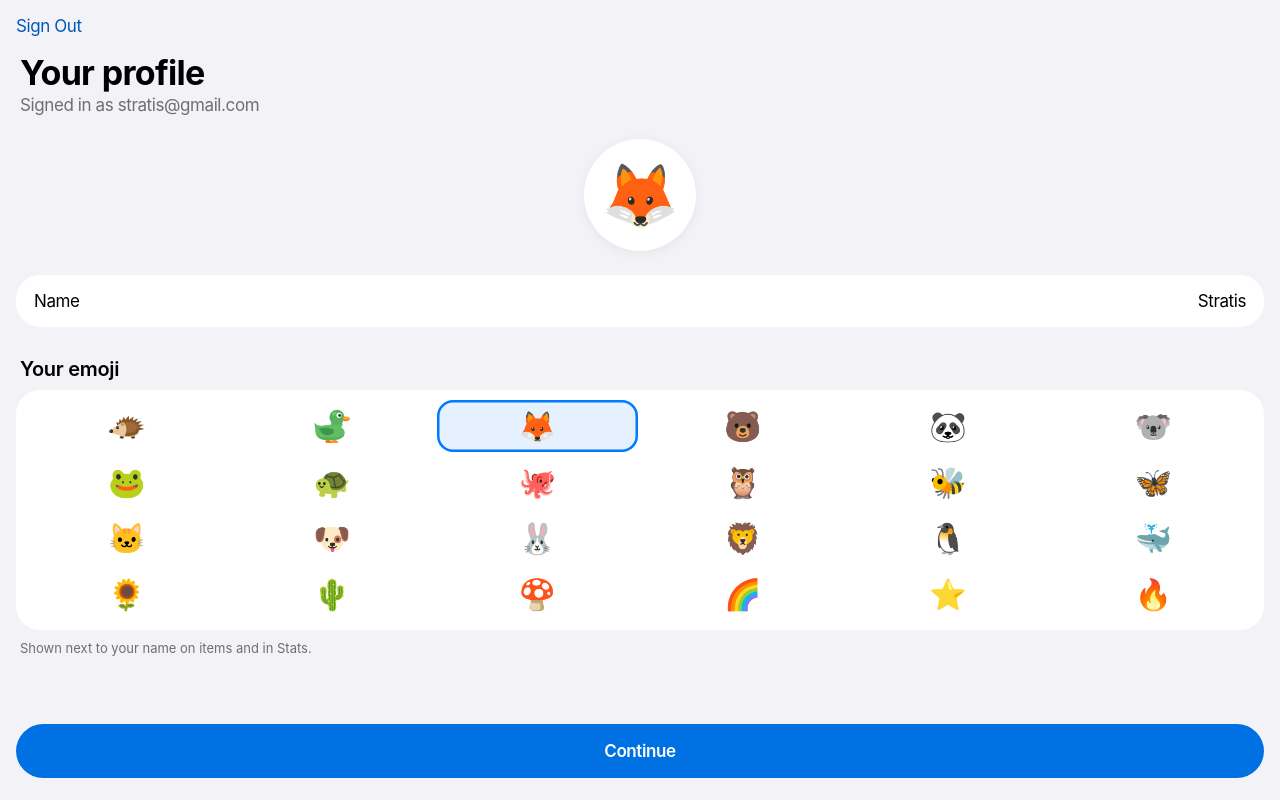
Test: This home is private › with an invite link goes Profile then Join, without "Set up a new home instead"
The width and height of the screenshot is (1280, 800).
Later steps or results of the test are not shown.
Expected: the heading "Your profile" is shown, x1=20 y1=52 x2=205 y2=93
# Starts on the first emoji nobody in that home has (the duck and hedgehog are taken).
Click the radio button labelled "🐻" at (743, 426), box x1=642 y1=400 x2=843 y2=452
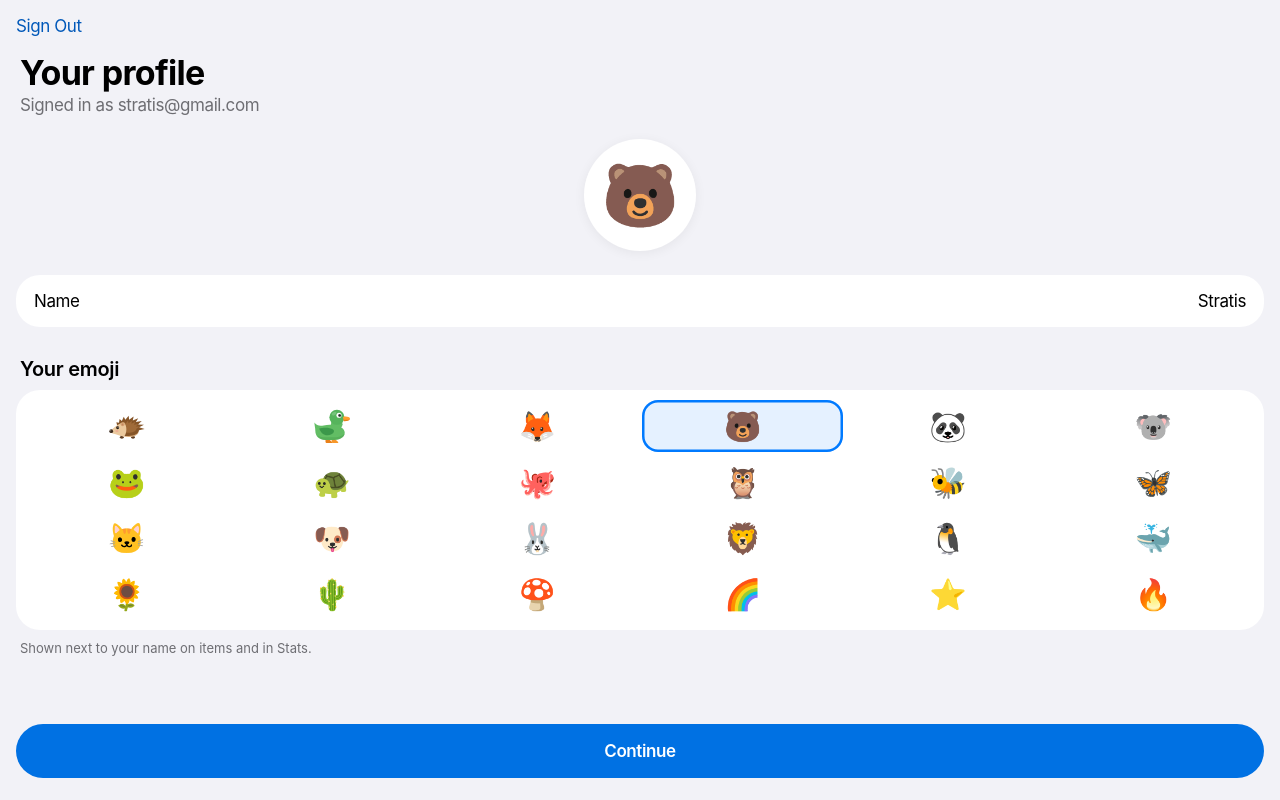
Click the button "Continue" at (640, 751), box x1=16 y1=724 x2=1264 y2=778
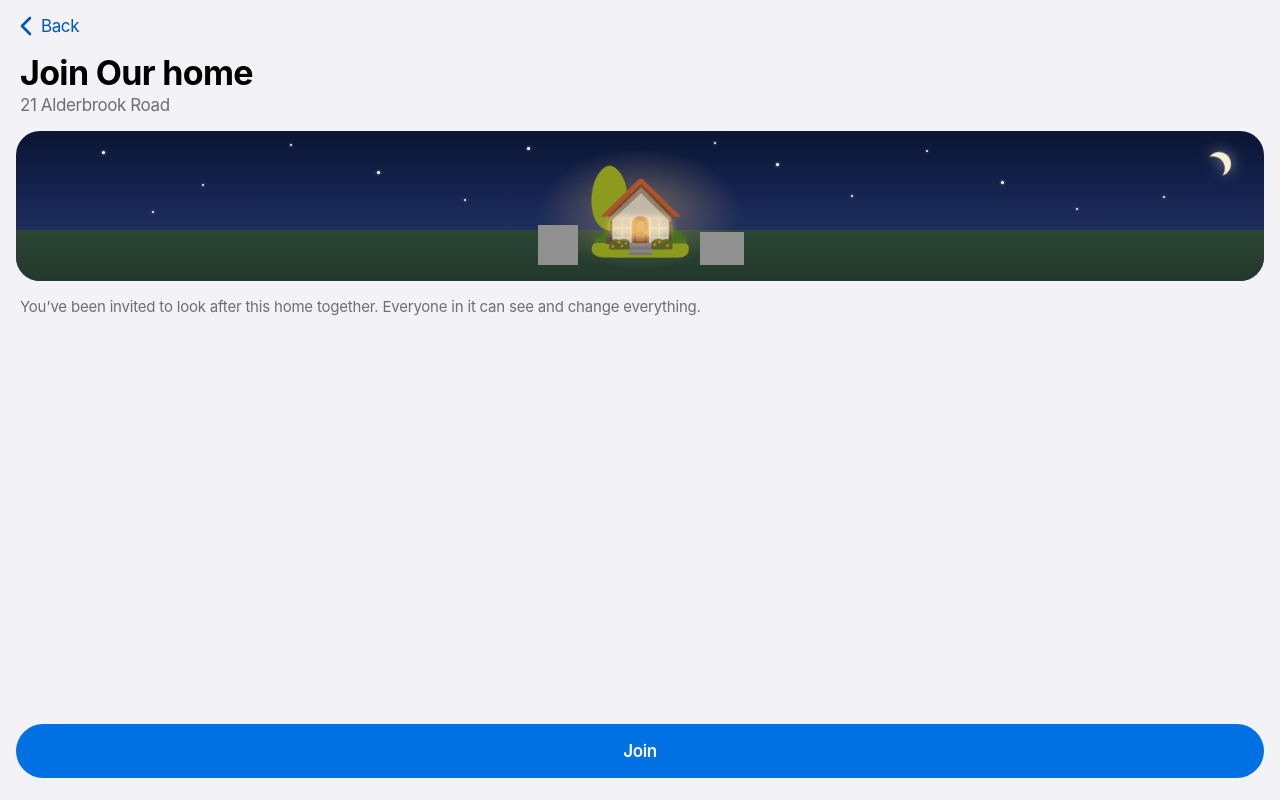
Result: the heading "Join Our home" is shown at x1=20 y1=52 x2=253 y2=93
